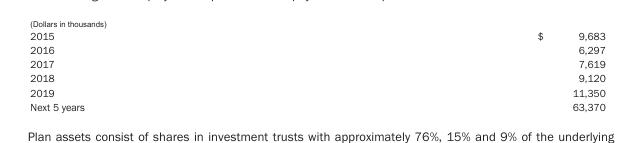table: (29, 29, 604, 111)
table column: (310, 29, 604, 111), (29, 29, 310, 111)
table row: (29, 42, 604, 56), (29, 56, 604, 70), (29, 70, 604, 84), (29, 84, 604, 98), (29, 29, 604, 42), (29, 98, 604, 111)
